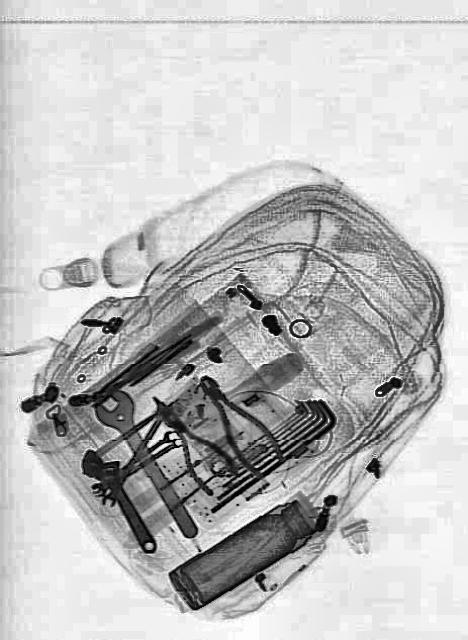Pliers: (138, 376, 240, 506), (187, 358, 289, 488)
Wrench: (88, 377, 208, 553), (76, 435, 166, 561)
